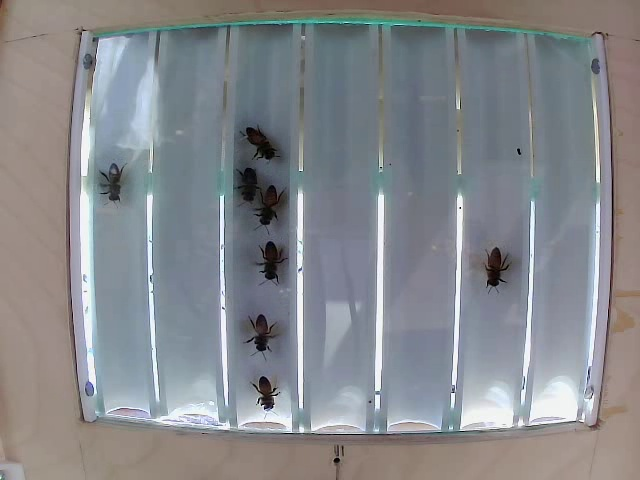bee: (481, 234, 513, 300), (239, 315, 284, 358), (250, 231, 287, 280), (245, 370, 284, 414), (91, 158, 129, 202), (230, 163, 264, 205), (256, 176, 284, 225), (238, 127, 275, 164)
